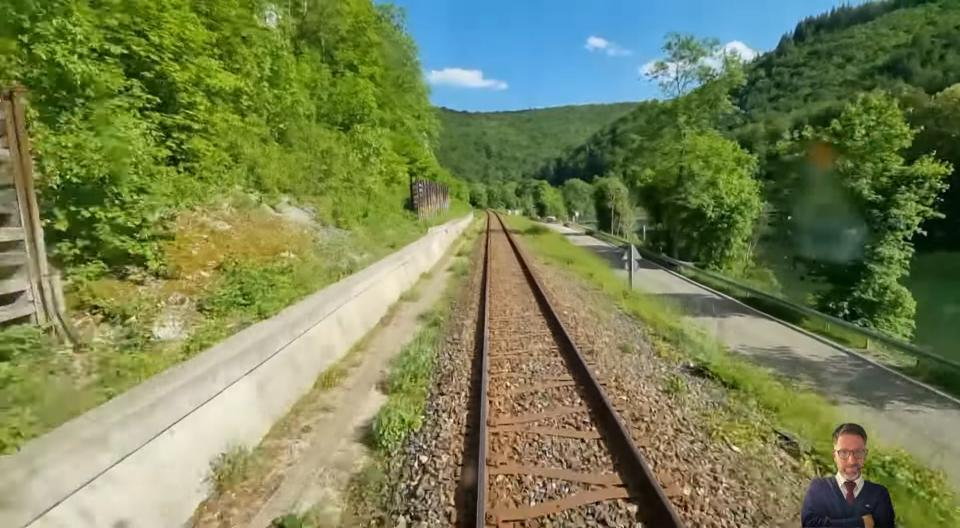Plant: (506, 216, 838, 475), (370, 300, 450, 456), (863, 429, 960, 528), (697, 397, 764, 447), (346, 458, 386, 517), (458, 211, 483, 257), (664, 374, 689, 394), (448, 257, 470, 275)
